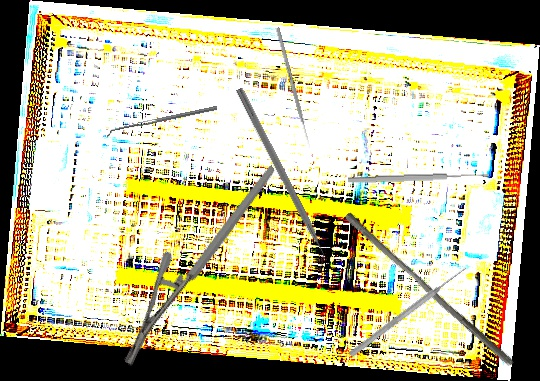Chopper: (226, 87, 333, 273)
Needle Holder: (79, 165, 322, 368)
Pusher: (338, 211, 521, 368), (347, 264, 470, 359), (275, 27, 312, 149)
Spatula Surgical: (105, 105, 219, 138)
Surgical Spoon: (347, 171, 490, 185)
